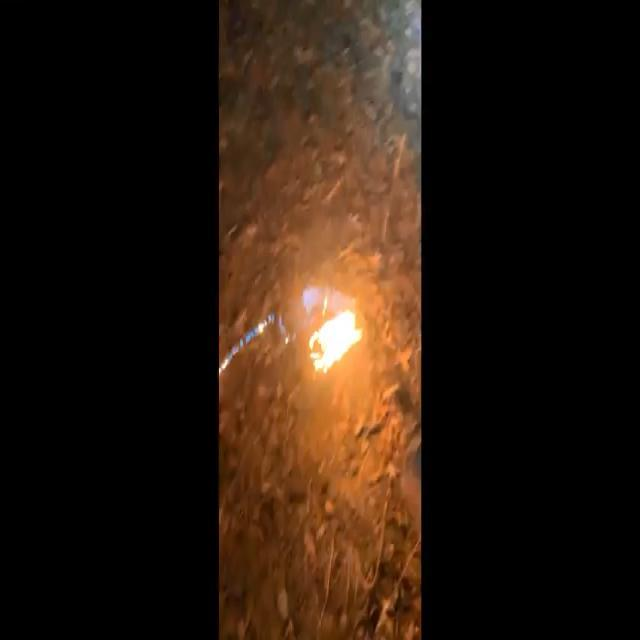Fire: (310, 298, 360, 388)
